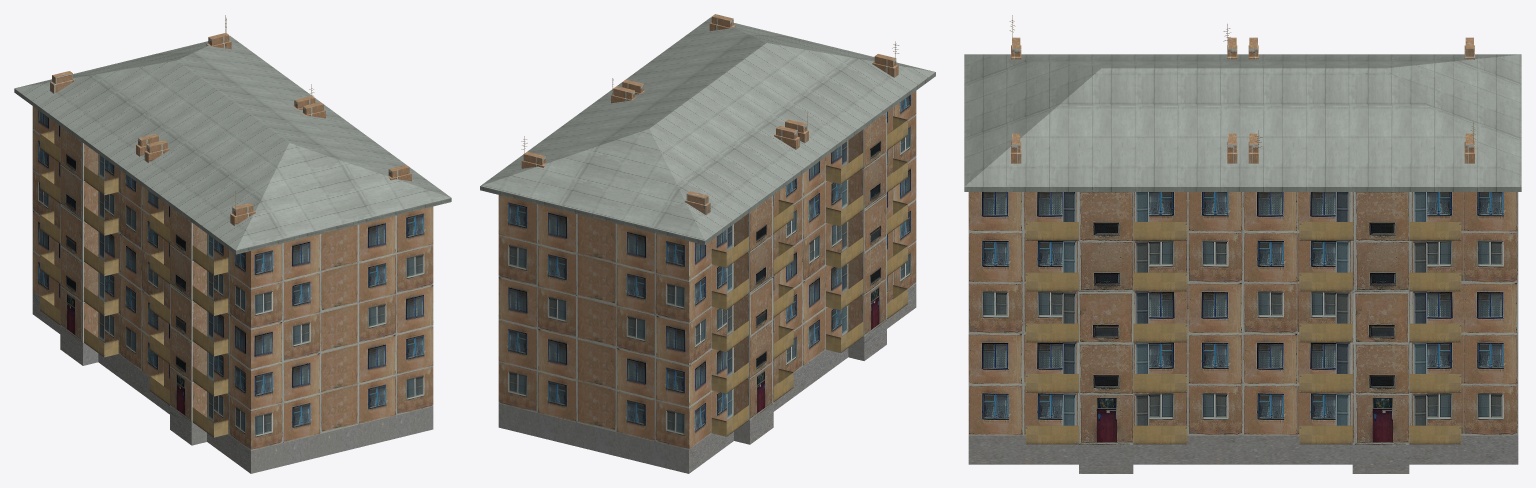
3 views of the same model, side by side, from view 1: azimuth 30°, elevation 25°; view 2: azimuth 150°, elevation 25°; view 3: azimuth 270°, elevation 25° (orthographic). The views are drawn at different scales.
Visible parts, largest first — view 1: building, roof, balcony.002, balcony.003, pipes; view 2: building, roof, balcony.003, balcony.002, pipes; view 3: building, roof, balcony, balcony.001, pipes.
Part boxes in pixels (left/top/right/bottom): building: left=32, top=106, right=433, bottom=473; roof: left=14, top=36, right=451, bottom=254; balcony.002: left=149, top=210, right=228, bottom=437; balcony.003: left=40, top=130, right=118, bottom=357; pipes: left=50, top=33, right=411, bottom=225; building: left=498, top=91, right=916, bottom=473; roof: left=480, top=17, right=935, bottom=244; balcony.003: left=711, top=200, right=793, bottom=436; balcony.002: left=826, top=116, right=907, bottom=352; pipes: left=521, top=14, right=898, bottom=215; building: left=968, top=192, right=1518, bottom=473; roof: left=964, top=54, right=1521, bottom=191; balcony: left=1025, top=222, right=1187, bottom=444; balcony.001: left=1299, top=222, right=1461, bottom=444; pipes: left=1011, top=37, right=1474, bottom=163.
Size of the model in its own units: 2.37 by 2.83 by 4.21.
14 materials, 14 textured.
